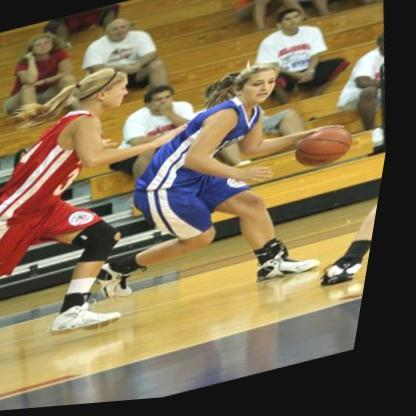basketball: (297, 127, 363, 179)
